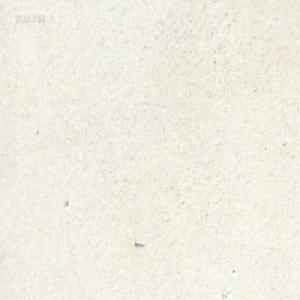Nail: (134, 240, 145, 248)
